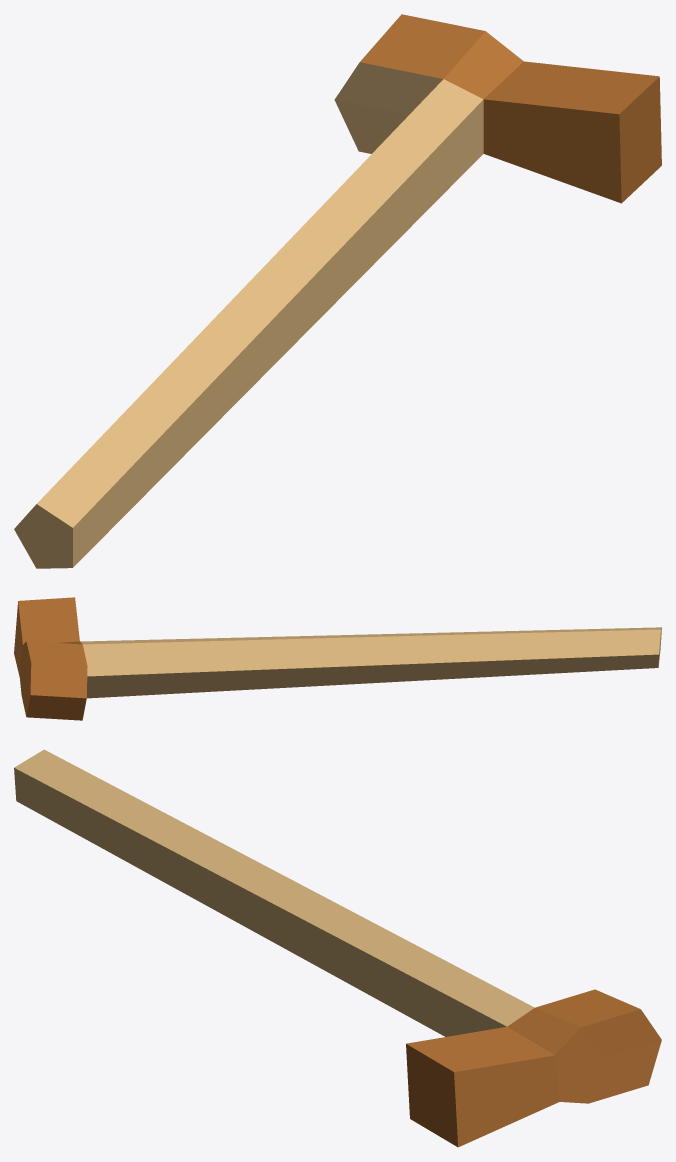
The model's file is copper_hammer.glb.
3 views of the same model, one above another, from view 1: azimuth 30°, elevation 25°; view 2: azimuth 150°, elevation 25°; view 3: azimuth 270°, elevation 25° (orthographic). The views are drawn at different scales.
Parts seen in each view (by area): view 1: copper_hammer; view 2: copper_hammer; view 3: copper_hammer.
Part boxes in pixels (x1,y1,x2,y2): copper_hammer: (14,14,661,568); copper_hammer: (14,597,661,720); copper_hammer: (14,749,661,1147).
Bounding box in the file's own units: 0.313 × 0.0347 × 0.2467.
